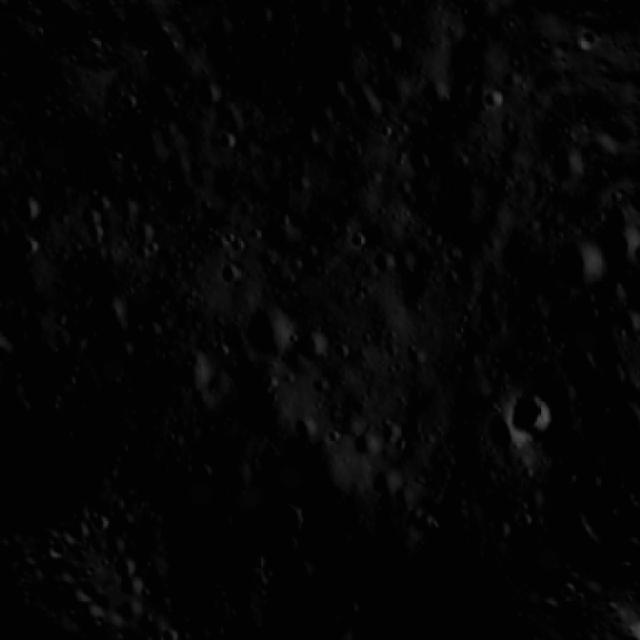crater: (491, 375, 572, 457), (538, 224, 618, 305), (236, 293, 310, 369), (543, 327, 615, 405), (252, 480, 325, 551), (97, 538, 163, 610), (533, 485, 604, 550), (530, 133, 596, 201), (583, 378, 640, 456), (584, 209, 640, 281), (272, 542, 330, 601), (284, 315, 342, 373), (338, 74, 393, 129), (304, 61, 358, 114), (364, 15, 416, 66), (184, 70, 233, 119), (101, 182, 150, 229), (600, 294, 640, 348), (2, 188, 47, 230), (123, 210, 166, 252), (218, 222, 258, 262), (210, 255, 247, 292)
